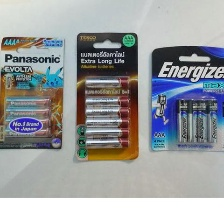battery: (1, 125, 53, 145), (83, 94, 132, 114), (3, 95, 54, 110), (204, 96, 219, 145), (174, 98, 190, 143), (83, 126, 131, 141), (3, 116, 51, 131), (82, 115, 132, 129), (83, 105, 131, 119), (84, 76, 131, 90), (3, 106, 53, 119), (197, 98, 210, 145), (186, 98, 199, 145), (83, 137, 131, 149)
book: (74, 29, 140, 164), (147, 43, 223, 154), (0, 33, 66, 153)
